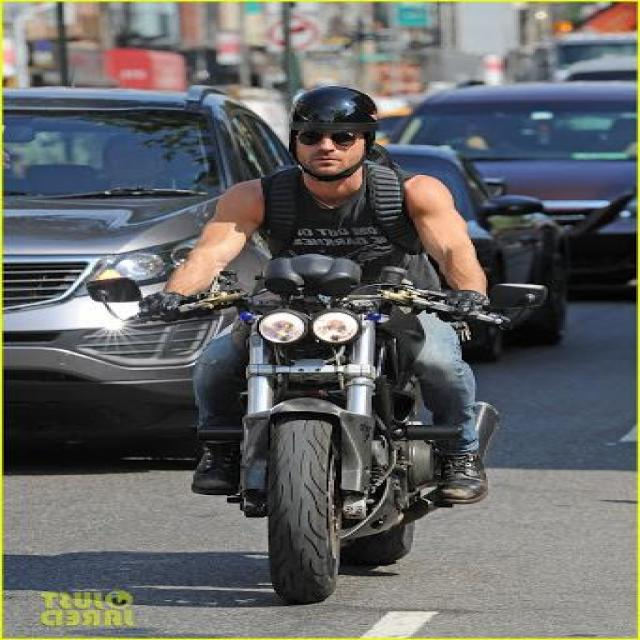helmet: (290, 77, 384, 174)
